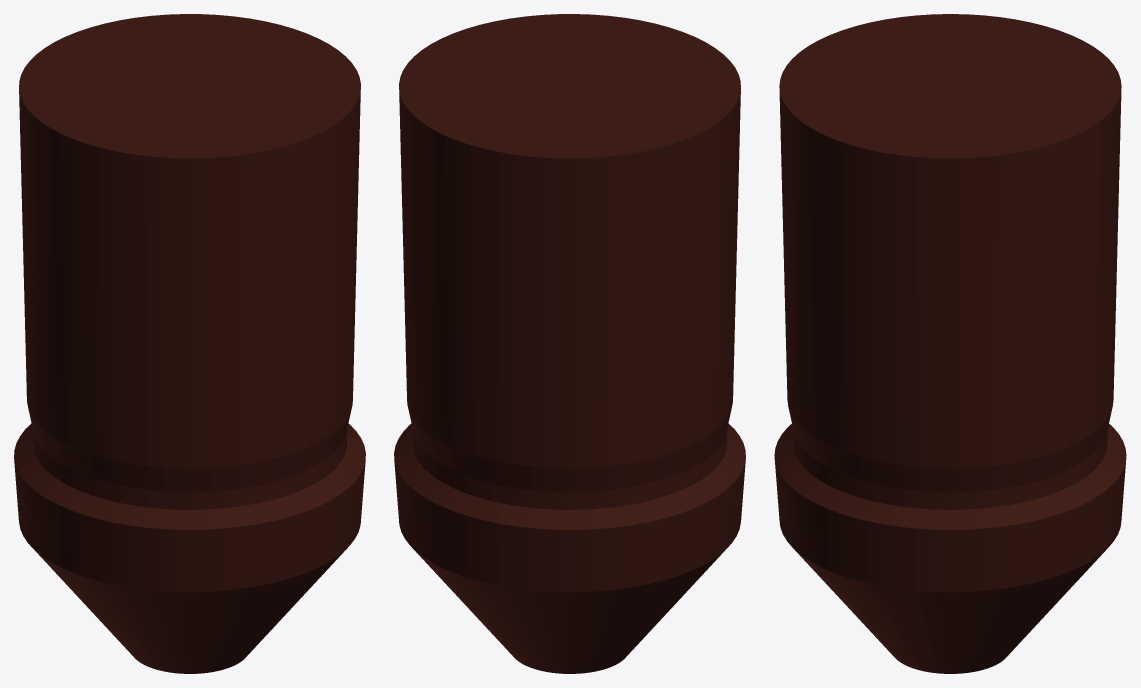
The model's file is ENDOFBOLT.fbx.
3 renders of one model, left to right at view 1: azimuth 30°, elevation 25°; view 2: azimuth 150°, elevation 25°; view 3: azimuth 270°, elevation 25°, orthographic.
Visible parts, largest first — view 1: ENDOFBOLT; view 2: ENDOFBOLT; view 3: ENDOFBOLT.
Part boxes in pixels (bbox=[...]): ENDOFBOLT: bbox=[14, 14, 365, 673]; ENDOFBOLT: bbox=[394, 14, 745, 673]; ENDOFBOLT: bbox=[774, 14, 1126, 673].
Size of the model in its own units: 223 by 394 by 223.
